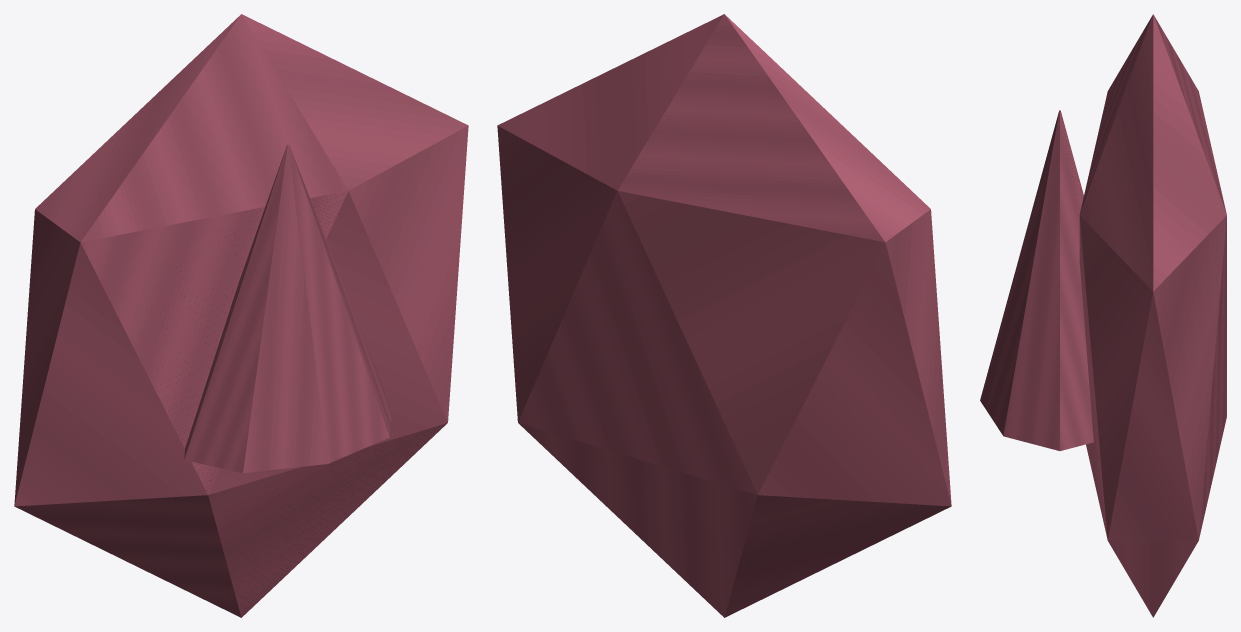
File: longlife.glb
3 renders of one model, left to right at view 1: azimuth 30°, elevation 25°; view 2: azimuth 150°, elevation 25°; view 3: azimuth 270°, elevation 25°, orthographic.
Parts seen in each view (by area): view 1: gear_longlife; view 2: gear_longlife; view 3: gear_longlife.
Boxes of the visible parts, box(x1,y1,x2,y2) form: gear_longlife: box(14, 14, 468, 617); gear_longlife: box(497, 14, 951, 617); gear_longlife: box(980, 14, 1226, 617).
Size of the model in its own units: 0.3935 by 0.5 by 0.1853.
1 material, 1 textured.
